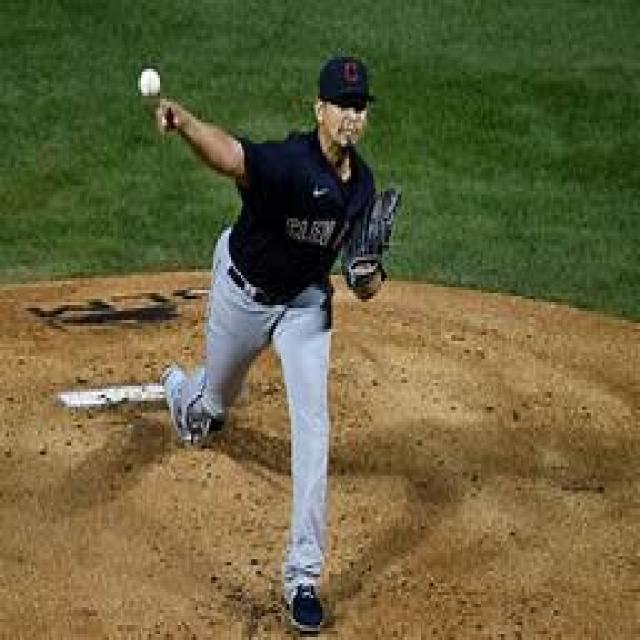ball: (136, 66, 162, 98)
glove: (336, 187, 405, 316)
